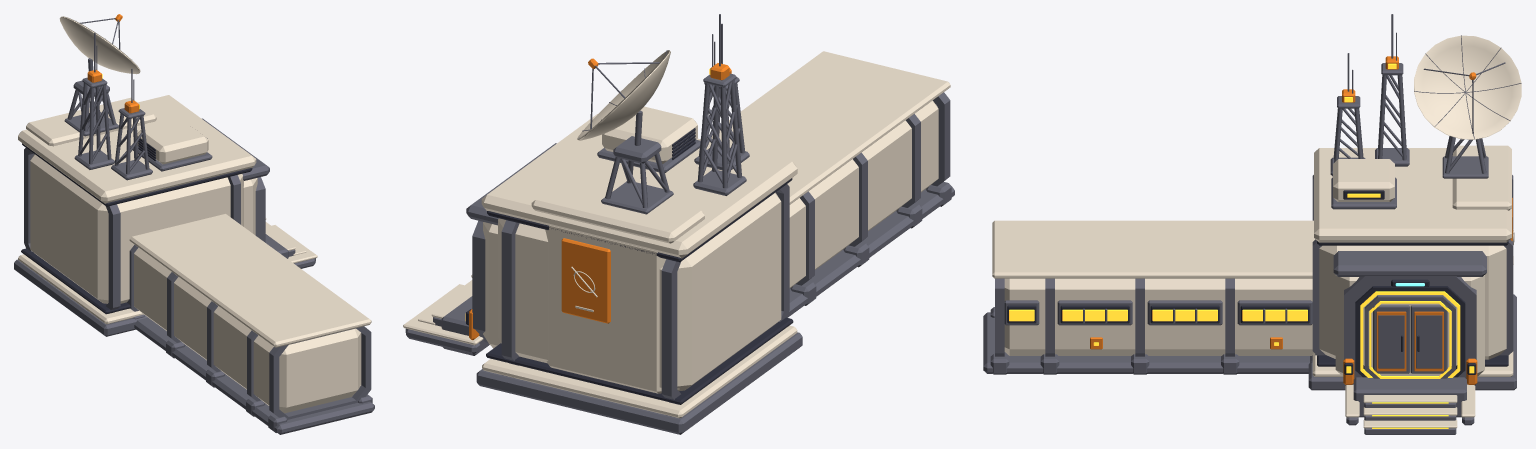
The model's file is asset.glb.
3 views of the same model, side by side, from view 1: azimuth 30°, elevation 25°; view 2: azimuth 150°, elevation 25°; view 3: azimuth 270°, elevation 25° (orthographic). The views are drawn at different scales.
Parts seen in each view (by area): view 1: Mesh_Wing_roof_long_cap, Mesh_Wing_pressure_shell, Mesh_Main_pressure_hull, Mesh_Main_roof_beveled_cap, Mesh_Wing_foundation, Mesh_Wing_pressure_collar_-16.05, Mesh_Structural_pressure_rib_-3.28, Mesh_Roof_air_handler, Mesh_Parabolic_reflector, Mesh_Shoulder_roof_cap, Mesh_Foundation_chamfered_plinth, Mesh_Foundation_ivory_course (+14 smaller); view 2: Mesh_Main_pressure_hull, Mesh_Wing_roof_long_cap, Mesh_Main_roof_beveled_cap, Mesh_Right_service_shoulder, Mesh_Wing_pressure_shell, Mesh_Foundation_chamfered_plinth, Mesh_Shoulder_roof_cap, Mesh_Foundation_ivory_course, Mesh_Orange_mission_badge, Mesh_Structural_pressure_rib_-3.28, Mesh_Wing_foundation, Mesh_Lower_dark_seam (+20 smaller); view 3: Mesh_Wing_roof_long_cap, Mesh_Wing_pressure_shell, Mesh_Main_roof_beveled_cap, Mesh_Parabolic_reflector, Mesh_Wing_foundation, Mesh_Main_pressure_hull, Mesh_Vestibule_canopy, Mesh_Vestibule_ivory_mass, Mesh_Outer_octagonal_slate_portal, Mesh_Shoulder_roof_cap, Mesh_Roof_air_handler, Mesh_Entry_landing (+32 smaller).
Boxes of the visible parts, <box> form: Mesh_Wing_roof_long_cap: <box>129,214,371,347</box>; Mesh_Wing_pressure_shell: <box>134,247,361,413</box>; Mesh_Main_pressure_hull: <box>30,154,243,303</box>; Mesh_Main_roof_beveled_cap: <box>18,95,256,203</box>; Mesh_Wing_foundation: <box>134,317,374,434</box>; Mesh_Wing_pressure_collar_-16.05: <box>269,326,371,419</box>; Mesh_Structural_pressure_rib_-3.28: <box>24,148,120,313</box>; Mesh_Roof_air_handler: <box>137,120,208,164</box>; Mesh_Parabolic_reflector: <box>59,16,140,74</box>; Mesh_Shoulder_roof_cap: <box>26,97,156,146</box>; Mesh_Foundation_chamfered_plinth: <box>14,259,147,336</box>; Mesh_Foundation_ivory_course: <box>18,254,144,324</box>; Mesh_Main_pressure_hull: <box>498,192,781,391</box>; Mesh_Wing_roof_long_cap: <box>707,51,950,204</box>; Mesh_Main_roof_beveled_cap: <box>481,114,797,258</box>; Mesh_Right_service_shoulder: <box>545,225,679,393</box>; Mesh_Wing_pressure_shell: <box>789,100,938,288</box>; Mesh_Foundation_chamfered_plinth: <box>476,332,802,434</box>; Mesh_Shoulder_roof_cap: <box>531,177,704,243</box>; Mesh_Foundation_ivory_course: <box>482,325,797,418</box>; Mesh_Orange_mission_badge: <box>561,238,610,323</box>; Mesh_Structural_pressure_rib_-3.28: <box>661,184,789,404</box>; Mesh_Wing_foundation: <box>787,186,954,317</box>; Mesh_Lower_dark_seam: <box>486,317,793,404</box>; Mesh_Wing_roof_long_cap: <box>992,220,1315,278</box>; Mesh_Wing_pressure_shell: <box>1004,278,1313,355</box>; Mesh_Main_roof_beveled_cap: <box>1314,148,1511,242</box>; Mesh_Parabolic_reflector: <box>1414,35,1521,139</box>; Mesh_Wing_foundation: <box>983,312,1309,373</box>; Mesh_Main_pressure_hull: <box>1319,245,1506,359</box>; Mesh_Vestibule_canopy: <box>1333,251,1486,276</box>; Mesh_Vestibule_ivory_mass: <box>1335,275,1484,376</box>; Mesh_Outer_octagonal_slate_portal: <box>1344,276,1476,378</box>; Mesh_Shoulder_roof_cap: <box>1452,145,1511,210</box>; Mesh_Roof_air_handler: <box>1333,159,1394,201</box>; Mesh_Entry_landing: <box>1353,377,1466,417</box>.
Bounding box in the file's own units: 11.97 × 13.13 × 20.93.
